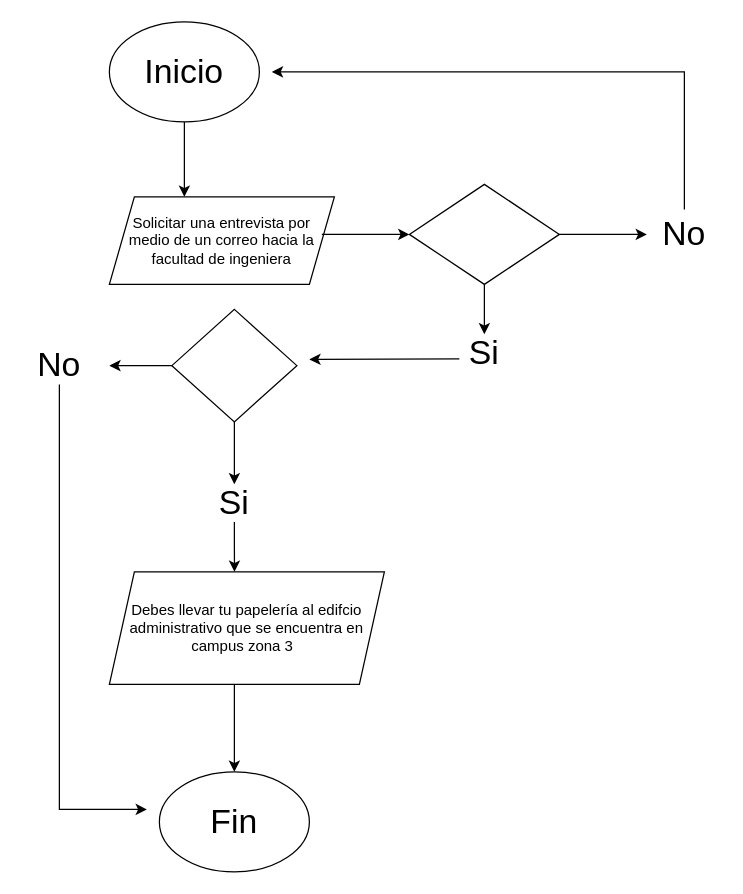
This 743x894 diagram has some shape labels left out. The centre of each missing label's shape, as x and y in pixels:
¿Aprobaste la entrevista?: (x=234, y=365)
¿Solicitaste la entrevista?: (x=483, y=233)
